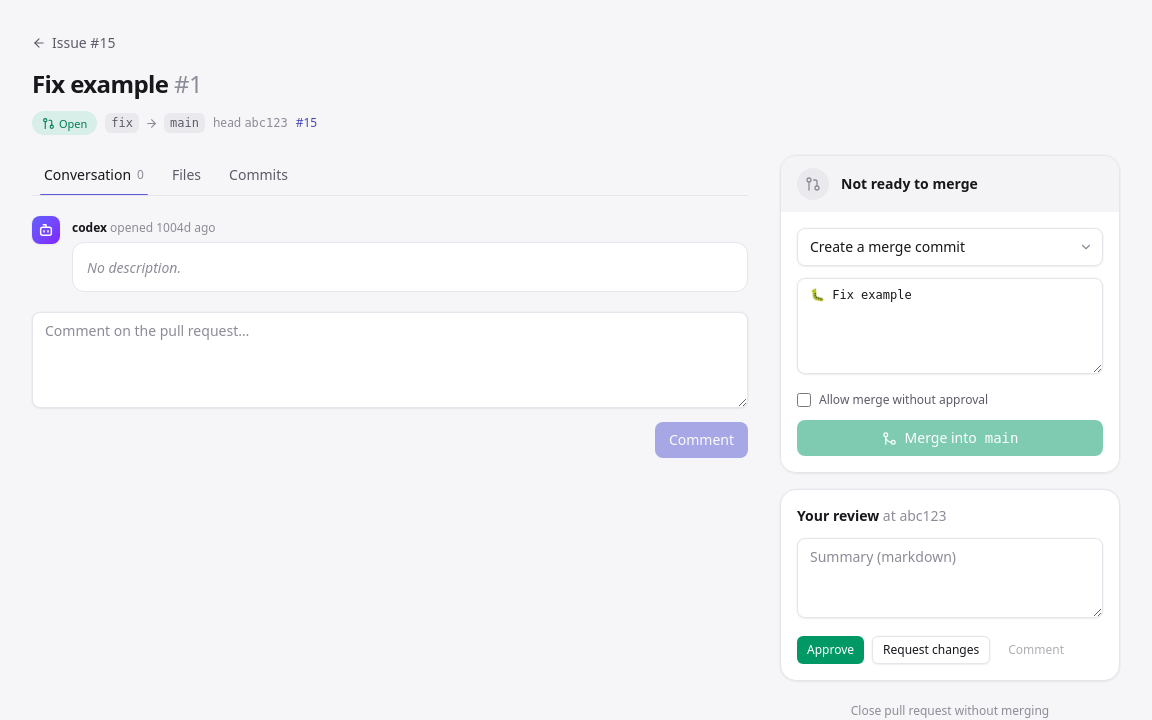
Scenario: PullPage merge box strategy switching and gating › merging without approval bypasses a missing-review blocker once conflicts are clear
Expected: the text "Not ready to merge" is shown, [841,174,978,194]
Expected: the button "Merge into main" is disabled, [797,420,1103,456]
Click the checkbox labelled "Allow merge without approval" at (804, 400), box [797,393,811,407]
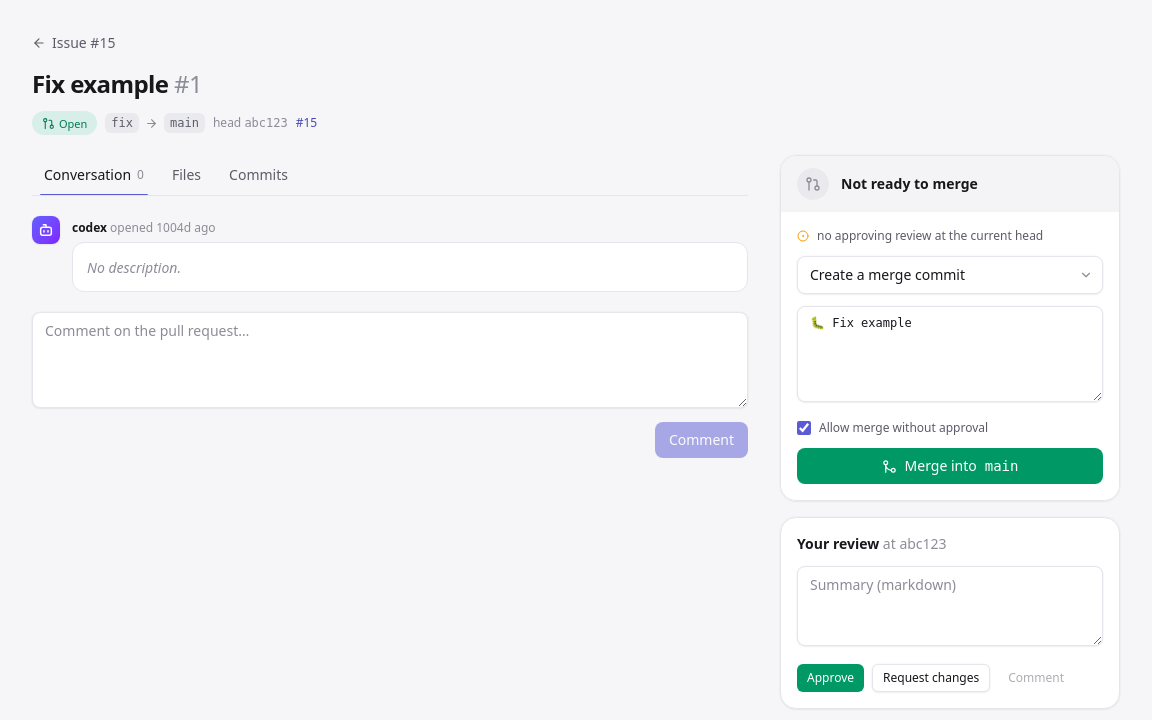
Expected: the button "Merge into main" is enabled, [797,448,1103,484]
